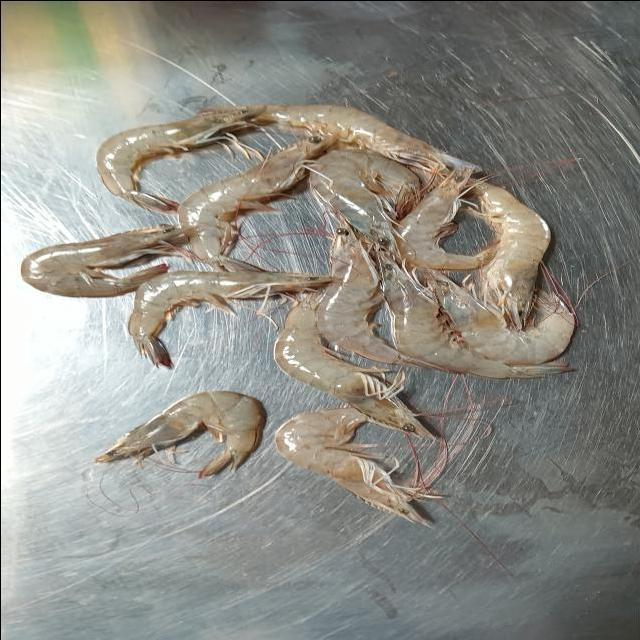shrimp: (274, 292, 434, 438), (177, 135, 334, 270), (376, 251, 540, 378), (128, 270, 332, 368), (274, 406, 440, 525), (97, 105, 266, 212), (317, 228, 443, 369), (218, 104, 451, 177), (418, 269, 573, 365), (95, 390, 263, 476), (22, 224, 197, 296), (308, 149, 421, 250), (471, 182, 549, 328), (396, 169, 494, 269)
